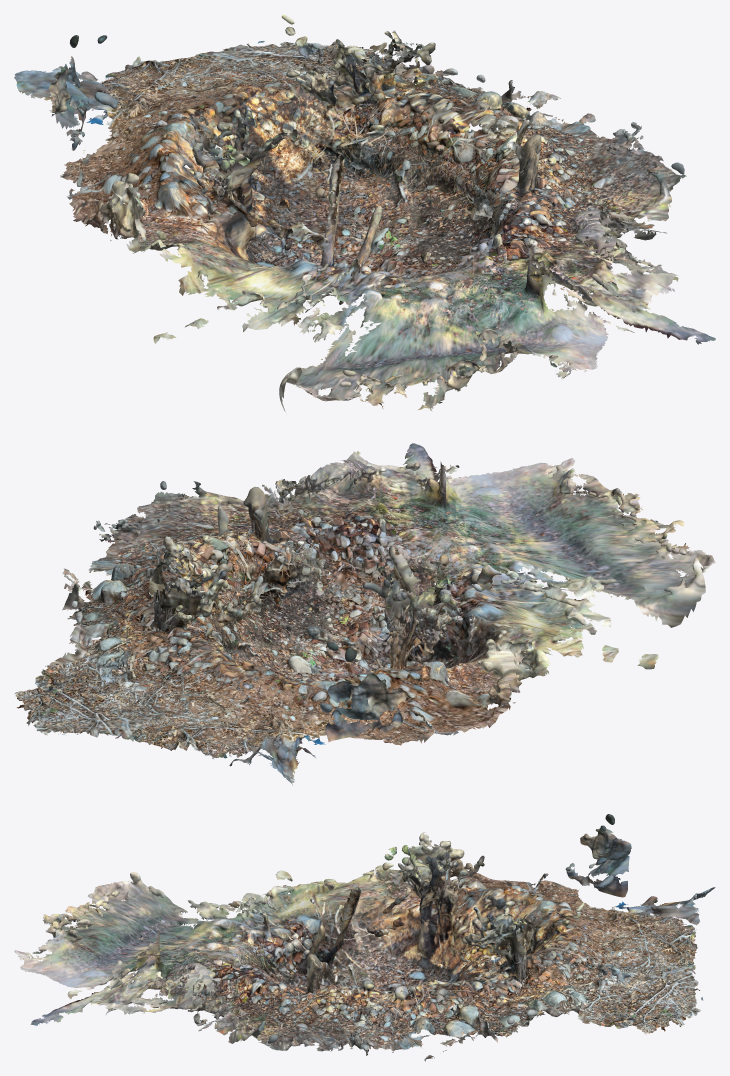
The model's file is abound_20261120-1452_cellar_10.glb.
3 renders of one model, top to bottom at view 1: azimuth 30°, elevation 25°; view 2: azimuth 150°, elevation 25°; view 3: azimuth 270°, elevation 25°, orthographic. The views are drawn at different scales.
Parts seen in each view (by area): view 1: Scene; view 2: Scene; view 3: Scene.
Part boxes in pixels (x1=…): Scene: x1=14, y1=14, x2=715, y2=412; Scene: x1=14, y1=443, x2=715, y2=785; Scene: x1=14, y1=814, x2=715, y2=1061.
Bounding box in the file's own units: 7.97 × 2.42 × 11.07.
2 materials, 2 textured.
